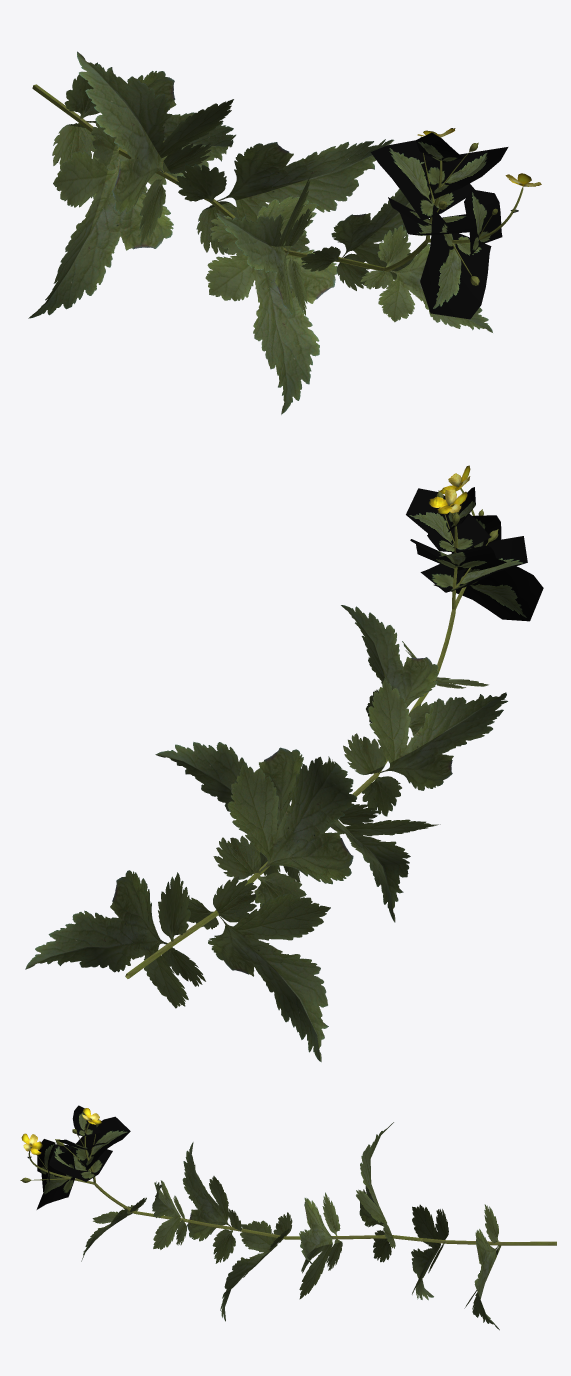
3 views of the same model, one above another, from view 1: azimuth 30°, elevation 25°; view 2: azimuth 150°, elevation 25°; view 3: azimuth 270°, elevation 25° (orthographic). The views are drawn at different scales.
Parts seen in each view (by area): view 1: GC27_v2; view 2: GC27_v2; view 3: GC27_v2.
Part boxes in pixels (x1=…): GC27_v2: x1=28, y1=51, x2=541, y2=414; GC27_v2: x1=25, y1=465, x2=543, y2=1062; GC27_v2: x1=20, y1=1105, x2=556, y2=1330.
Size of the model in its own units: 0.4185 by 0.4875 by 0.9479.
Materials: 4 (4 with a texture image).
